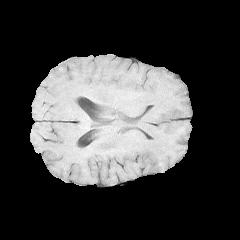glioma: (107, 80, 166, 132)
